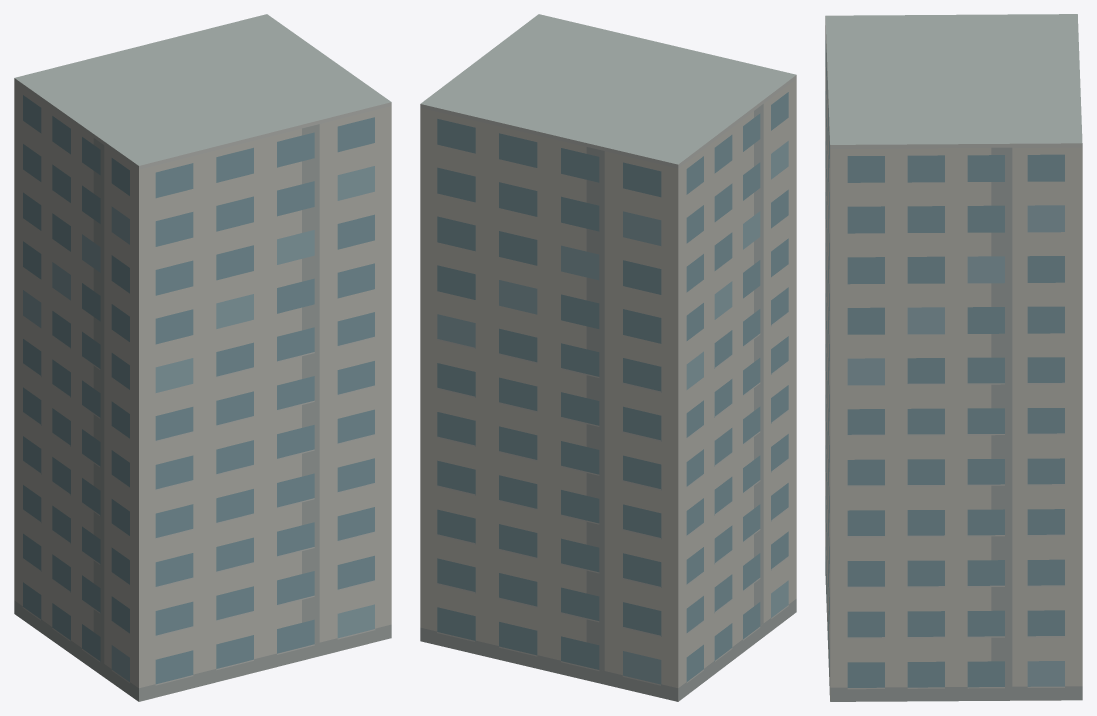
The model's file is residential-a383e21f-5278-401c-b563-a4d1c3dc062f.glb.
3 renders of one model, left to right at view 1: azimuth 30°, elevation 25°; view 2: azimuth 150°, elevation 25°; view 3: azimuth 270°, elevation 25°, orthographic. The views are drawn at different scales.
Parts seen in each view (by area): view 1: residential-a383e21f-5278-401c-b563-a4d1c3dc062f.tmp; view 2: residential-a383e21f-5278-401c-b563-a4d1c3dc062f.tmp; view 3: residential-a383e21f-5278-401c-b563-a4d1c3dc062f.tmp.
Boxes of the visible parts, x1,y1,x2,y2 form: residential-a383e21f-5278-401c-b563-a4d1c3dc062f.tmp: [14, 14, 391, 701]; residential-a383e21f-5278-401c-b563-a4d1c3dc062f.tmp: [420, 14, 796, 701]; residential-a383e21f-5278-401c-b563-a4d1c3dc062f.tmp: [825, 14, 1082, 701].
Bounding box in the file's own units: 17.66 × 35 × 14.65.
